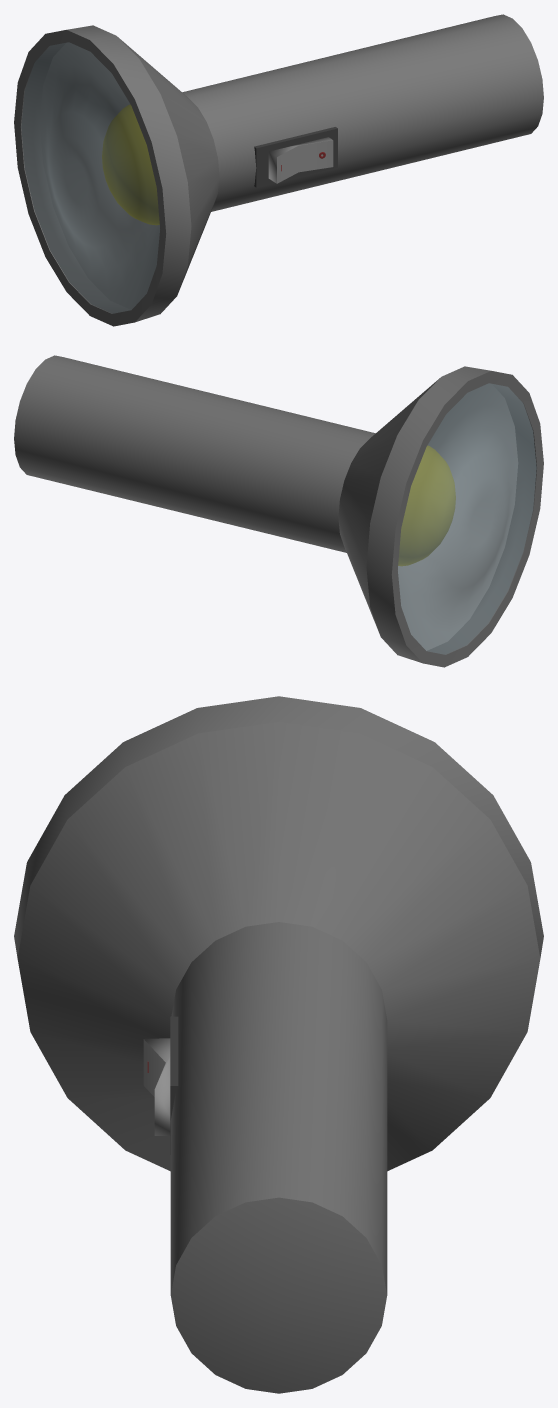
3 views of the same model, one above another, from view 1: azimuth 30°, elevation 25°; view 2: azimuth 150°, elevation 25°; view 3: azimuth 270°, elevation 25° (orthographic). The views are drawn at different scales.
Visible parts, largest first — view 1: pCylinder1, pCylinder2, pSphere1, pCube2, pCube1; view 2: pCylinder1, pCylinder2, pSphere1; view 3: pCylinder1, pCube2.
Part boxes in pixels (x1=…): pCylinder1: x1=14, y1=14, x2=543, y2=326; pCylinder2: x1=21, y1=42, x2=159, y2=313; pSphere1: x1=102, y1=104, x2=159, y2=224; pCube2: x1=268, y1=137, x2=333, y2=183; pCube1: x1=254, y1=127, x2=337, y2=187; pCylinder1: x1=14, y1=355, x2=543, y2=667; pCylinder2: x1=398, y1=383, x2=536, y2=654; pSphere1: x1=398, y1=445, x2=455, y2=565; pCylinder1: x1=14, y1=696, x2=543, y2=1393; pCube2: x1=143, y1=1038, x2=170, y2=1135.
Bounding box in the file's own units: 11.89 × 6.99 × 6.99.
